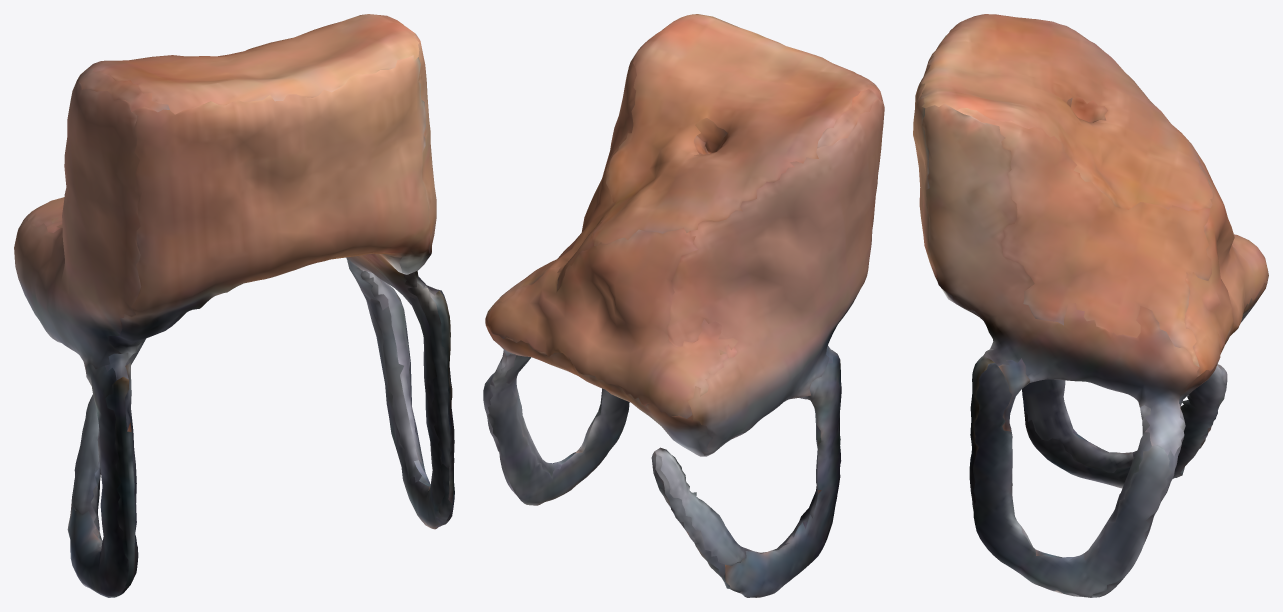
The model's file is 8_chair.glb.
3 renders of one model, left to right at view 1: azimuth 30°, elevation 25°; view 2: azimuth 150°, elevation 25°; view 3: azimuth 270°, elevation 25°, orthographic. The views are drawn at different scales.
Parts seen in each view (by area): view 1: 8_chair; view 2: 8_chair; view 3: 8_chair.
Part boxes in pixels (x1,y1,x2,y2): 8_chair: [14, 14, 454, 597]; 8_chair: [483, 14, 884, 597]; 8_chair: [913, 14, 1268, 597].
Size of the model in its own units: 0.6541 by 0.9322 by 0.6351.
Materials: 1 (1 with a texture image).
